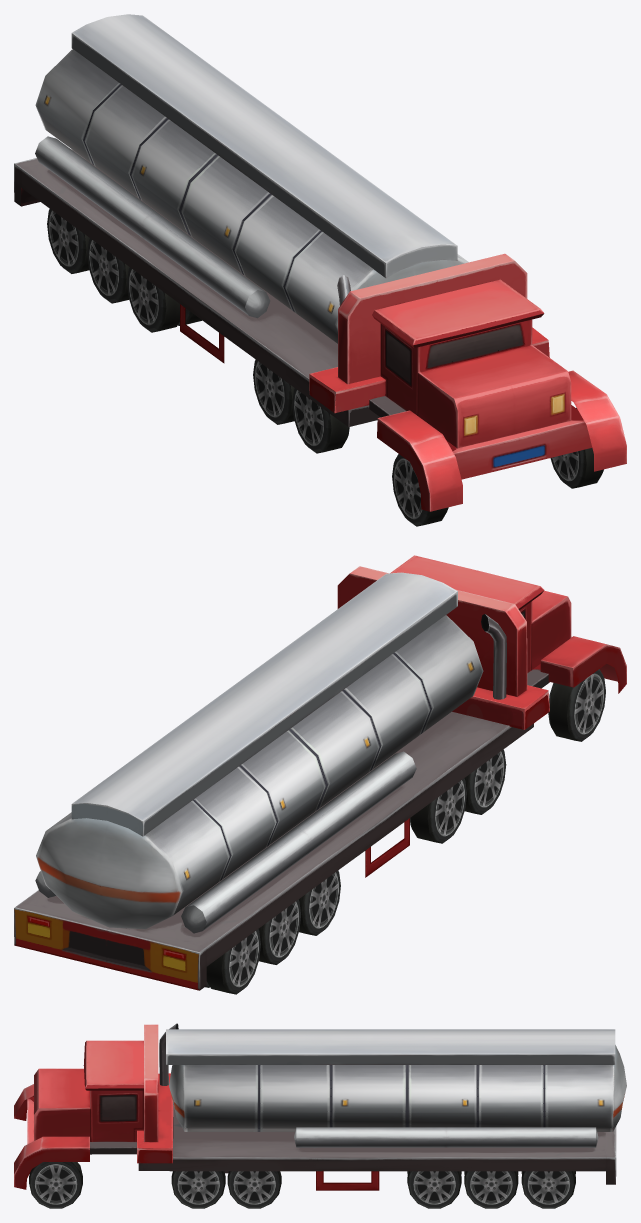
The model's file is model_Mcar9.FBX.
The picture shows the model from 3 angles, top to bottom: view 1: azimuth 30°, elevation 25°; view 2: azimuth 150°, elevation 25°; view 3: azimuth 270°, elevation 25°; orthographic projection. The views are drawn at different scales.
Visible parts, largest first — view 1: Object010; view 2: Object010; view 3: Object010.
Part boxes in pixels (<box>): Object010: <box>14,14,626,526</box>; Object010: <box>14,555,626,994</box>; Object010: <box>14,1023,626,1208</box>.
Size of the model in its own units: 176 by 155 by 607.
